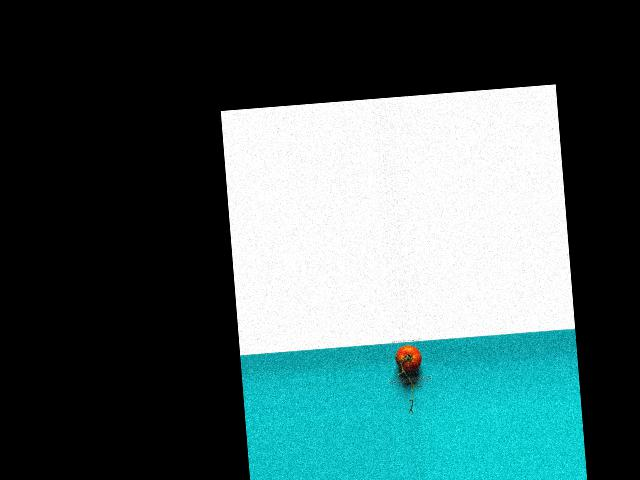tomato: (393, 344, 422, 372)
